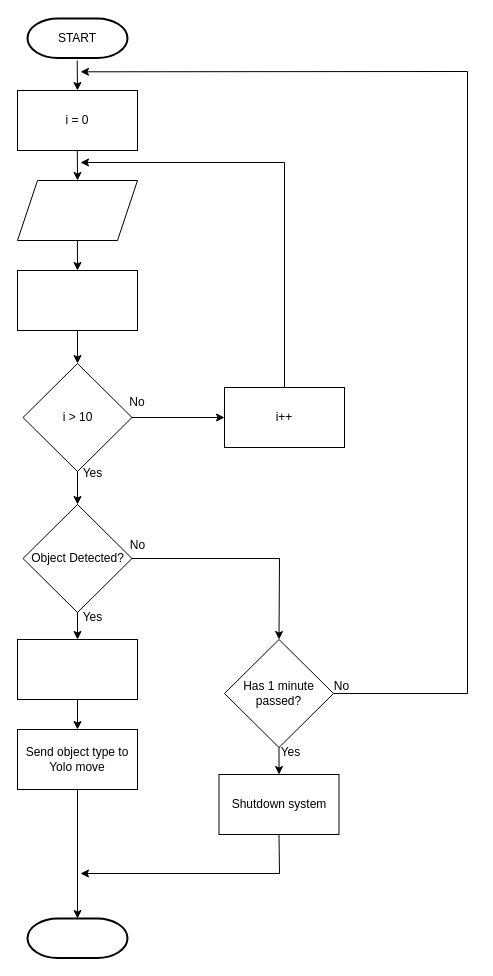
Image size: 493x976. Some labels were removed from this diagram. Each missing label, with the centre of its shape:
Capture Webcam Video Feed: point (77, 210)
END: point (77, 937)
Find the Best Object Detected: point (77, 669)
YOLO Object Detection: point (77, 300)
